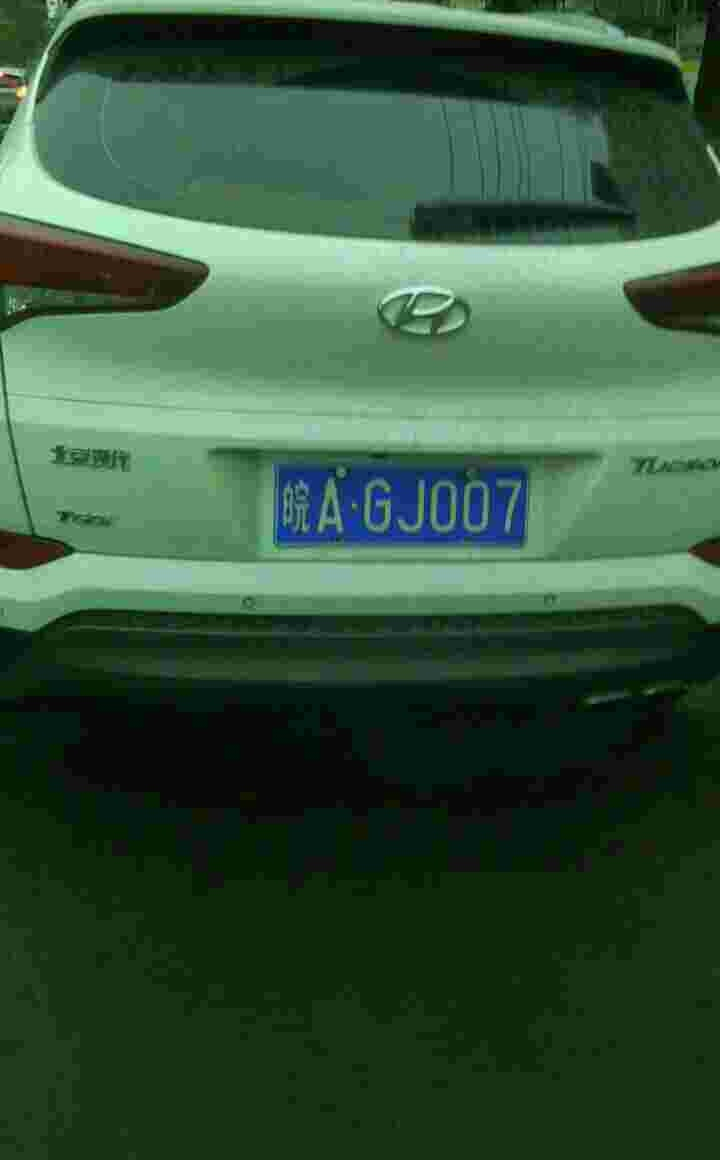plate: (277, 461, 537, 550)
